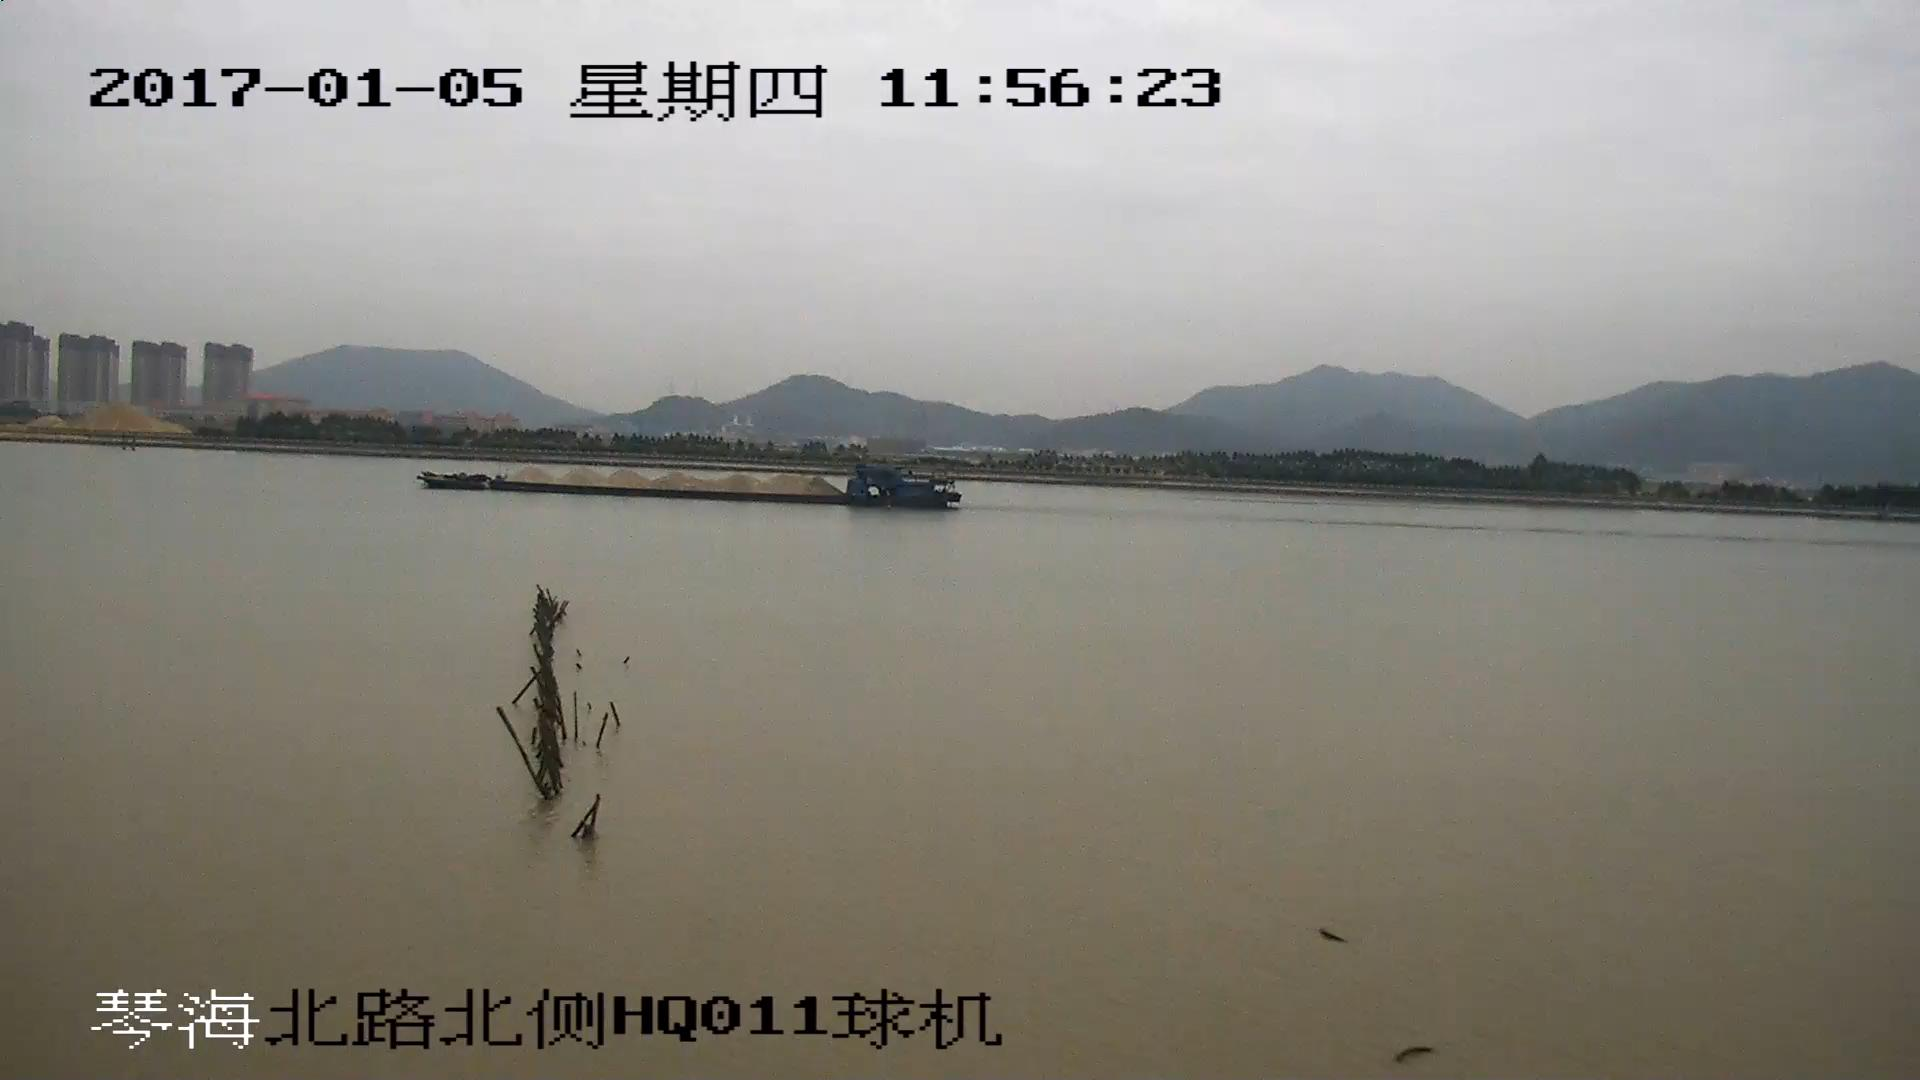ore carrier: (420, 464, 962, 510)
